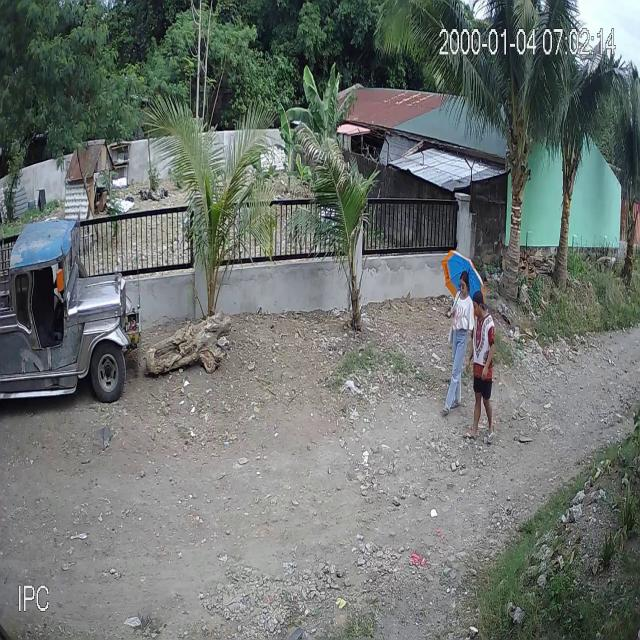walking: (442, 247, 489, 419), (461, 288, 498, 448)
